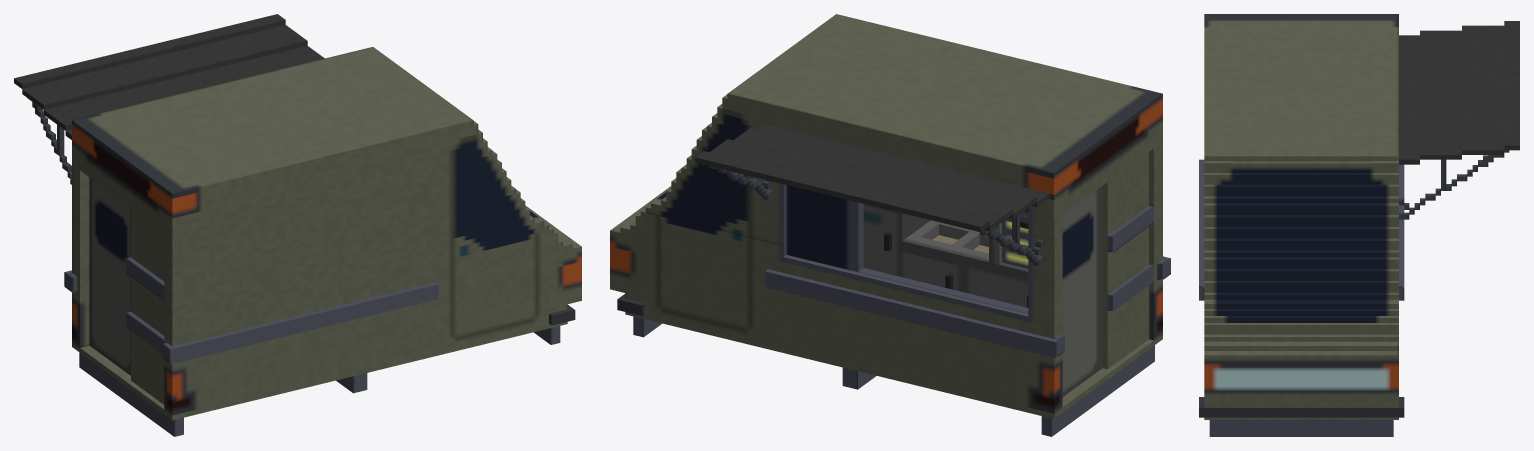
File: food_truck.dae
The picture shows the model from 3 angles, left to right: view 1: azimuth 30°, elevation 25°; view 2: azimuth 150°, elevation 25°; view 3: azimuth 270°, elevation 25°; orthographic projection. The views are drawn at different scales.
Visible parts, largest first — view 1: Content; view 2: Content; view 3: Content.
Part boxes in pixels (left/top/right/bottom): Content: left=14, top=14, right=581, bottom=436; Content: left=610, top=14, right=1170, bottom=436; Content: left=1199, top=14, right=1519, bottom=436.
Bounding box in the file's own units: 88 × 50 × 61.
1 material, 1 textured.
